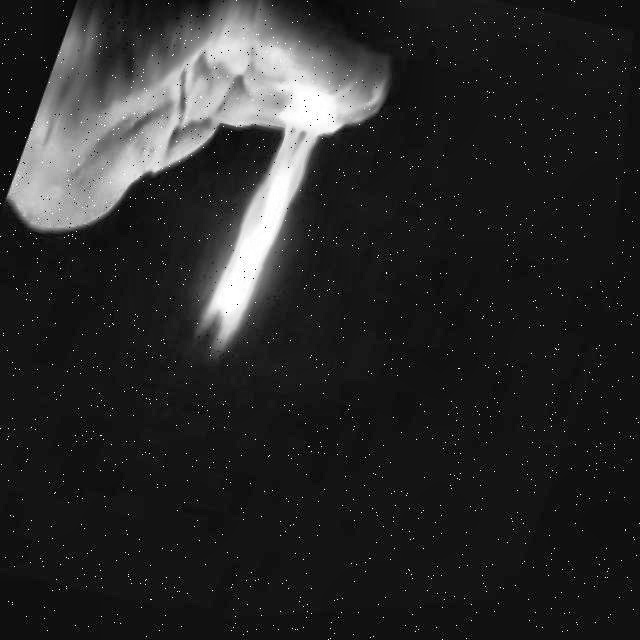Smoke: (184, 64, 356, 385)
